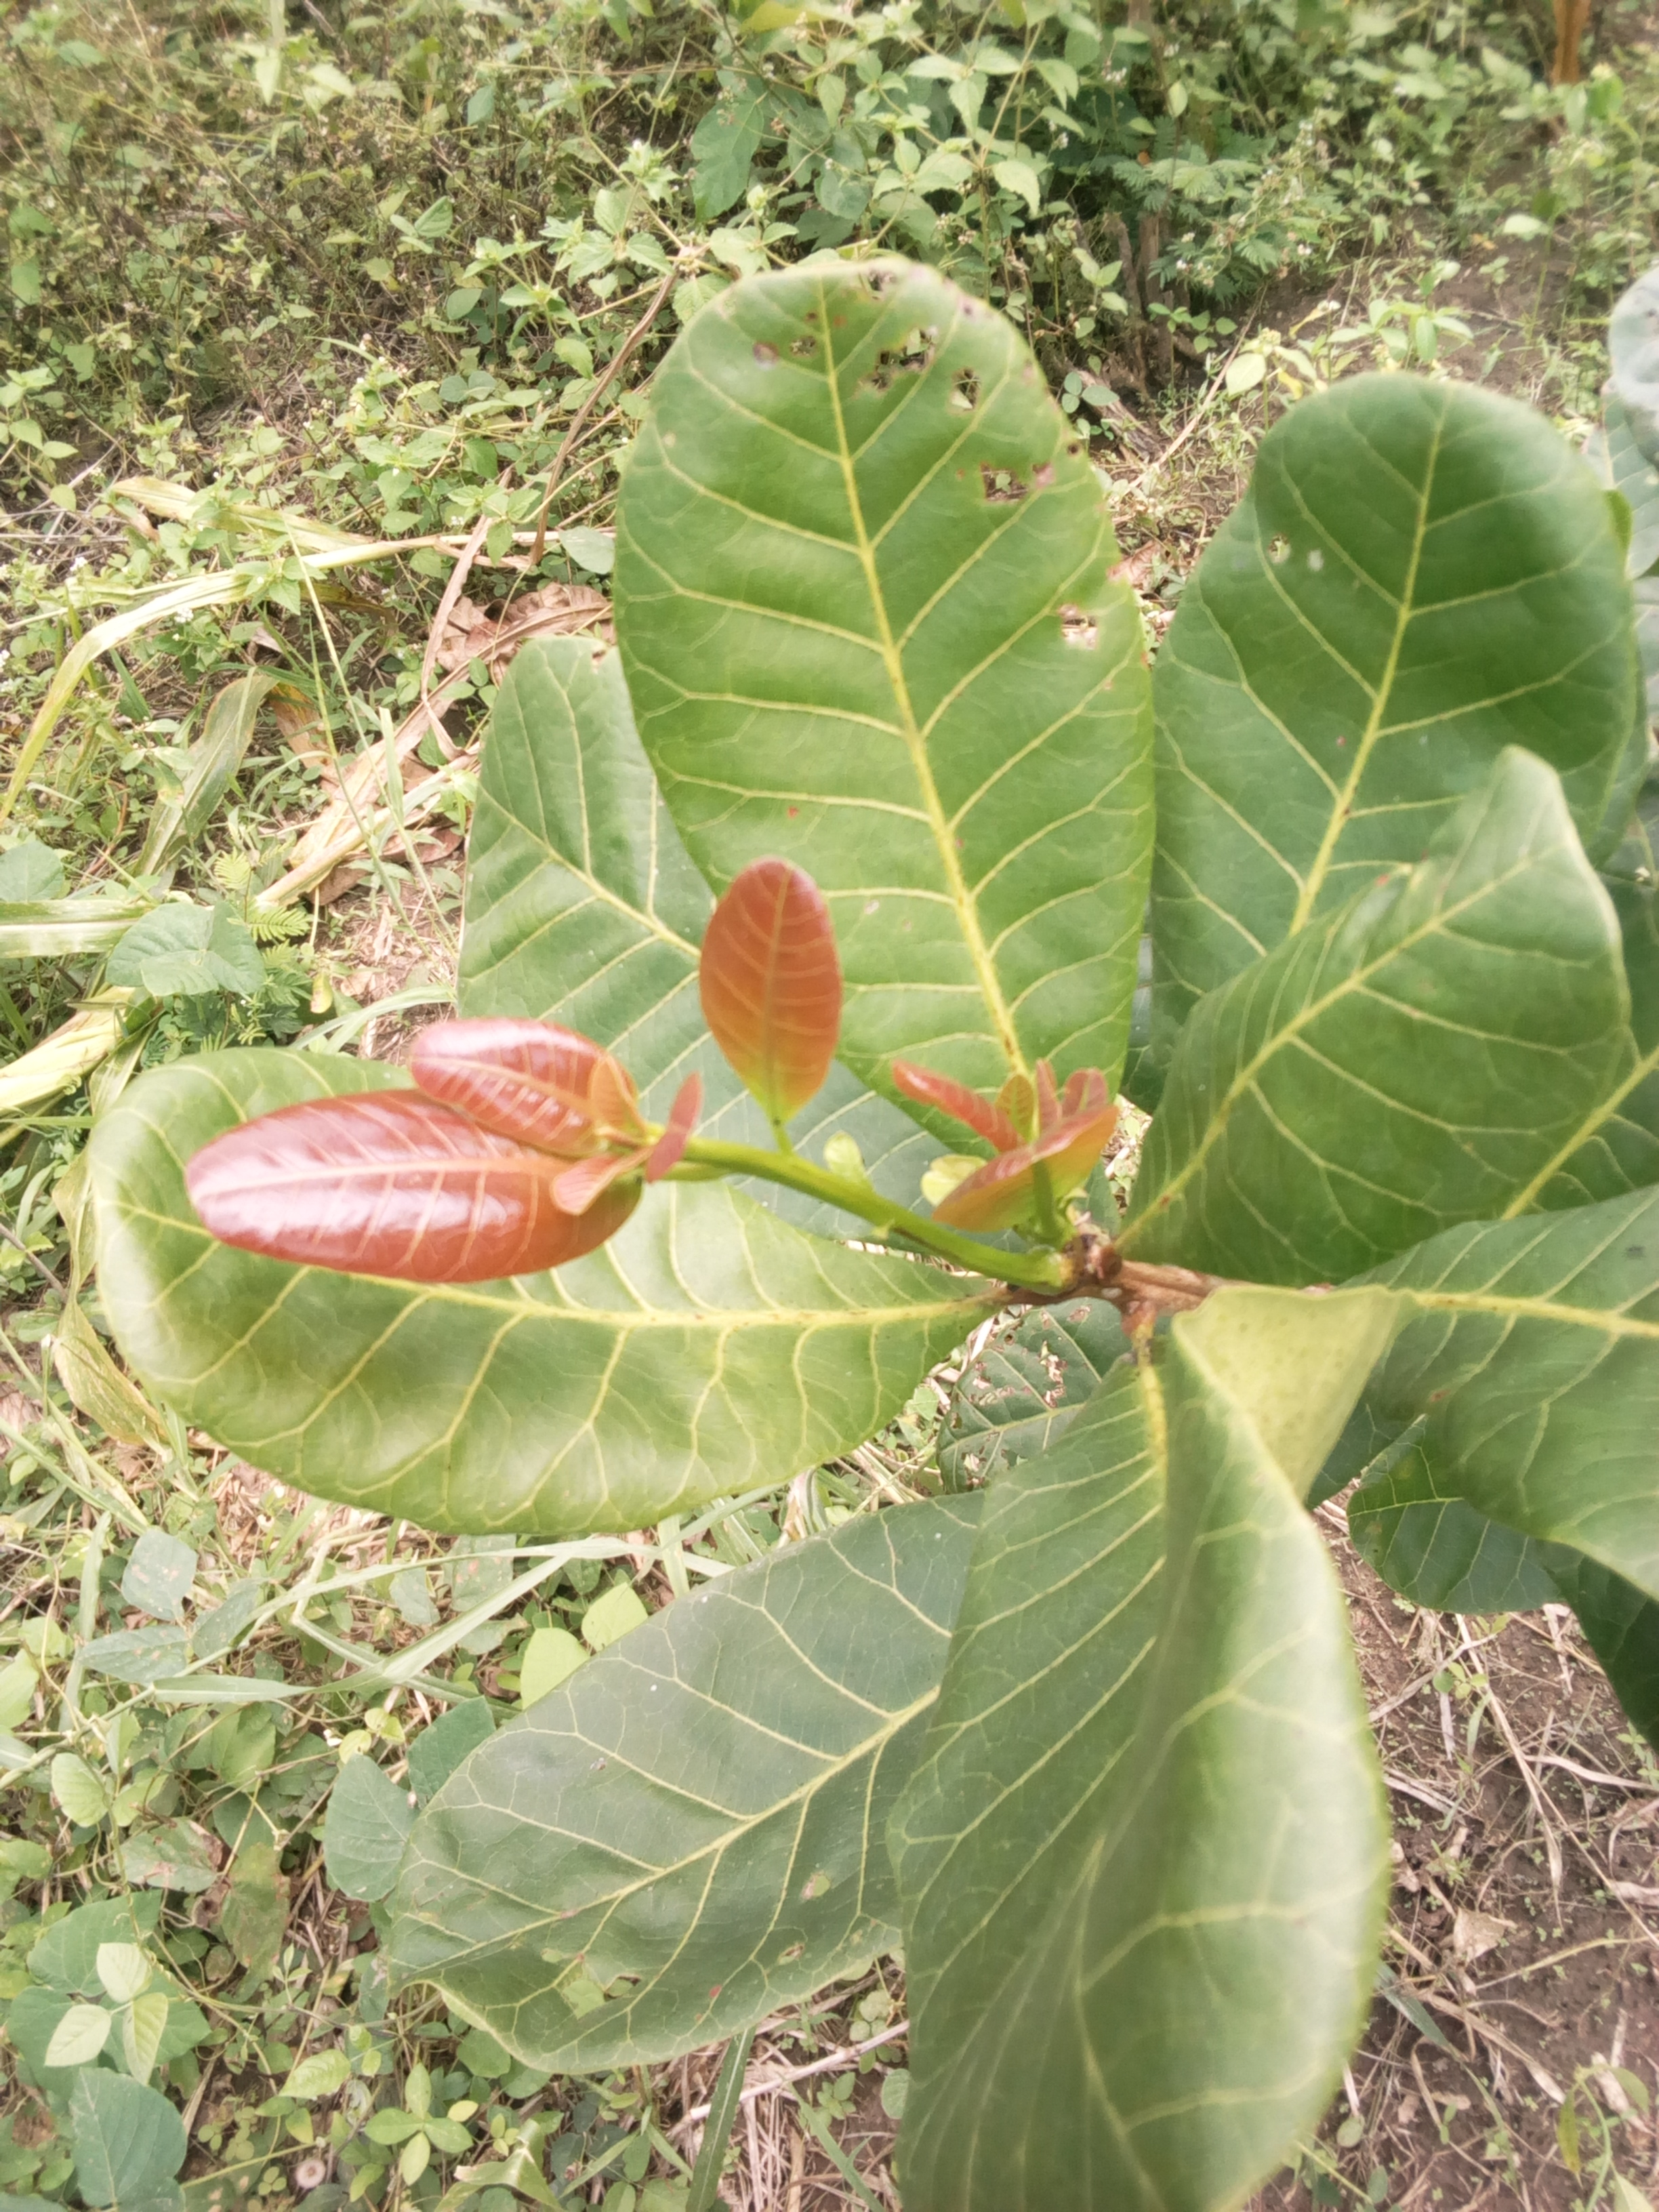Anoplonemis curvipes: (596, 195, 1227, 1188)
